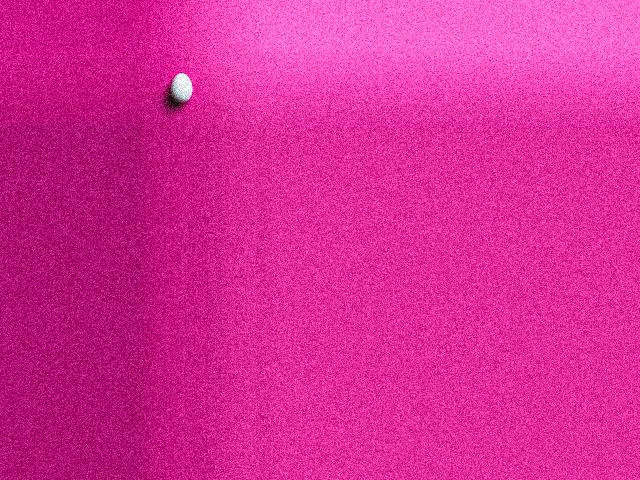egg: (171, 73, 193, 103)
